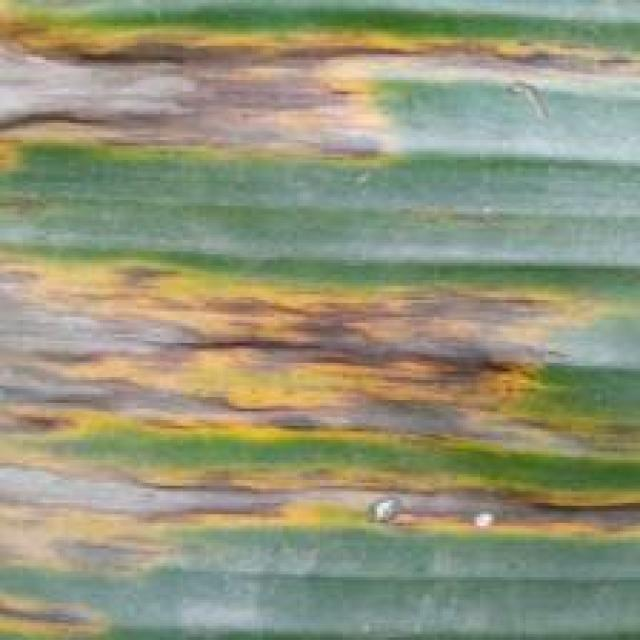Early_leaf_spot: (0, 241, 635, 467), (0, 14, 637, 185), (0, 455, 640, 574), (0, 590, 130, 637)
